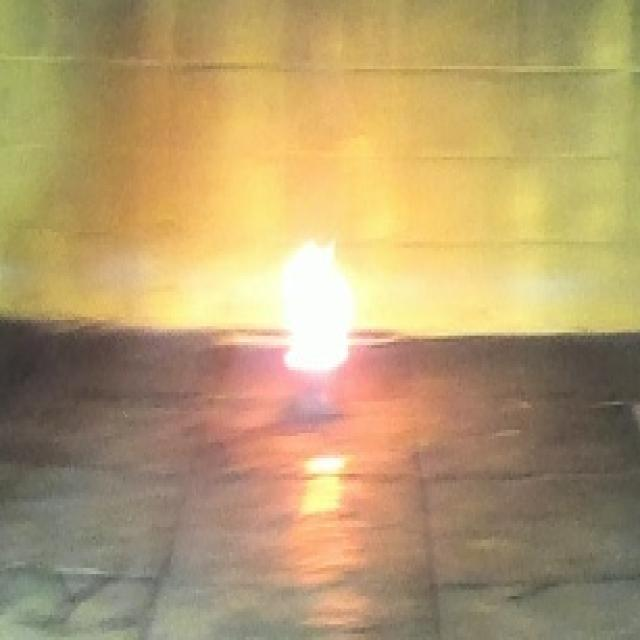Fire: (284, 238, 352, 371)
